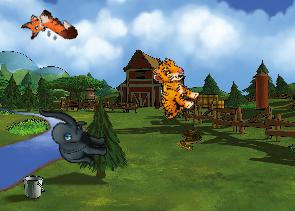elephant: (37, 107, 108, 165)
fox: (18, 1, 80, 58)
tiger: (137, 54, 206, 124)
